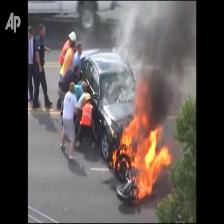fire: (108, 89, 173, 202)
nofire: (59, 38, 78, 77), (76, 101, 94, 128)
smoke: (113, 0, 194, 110)
